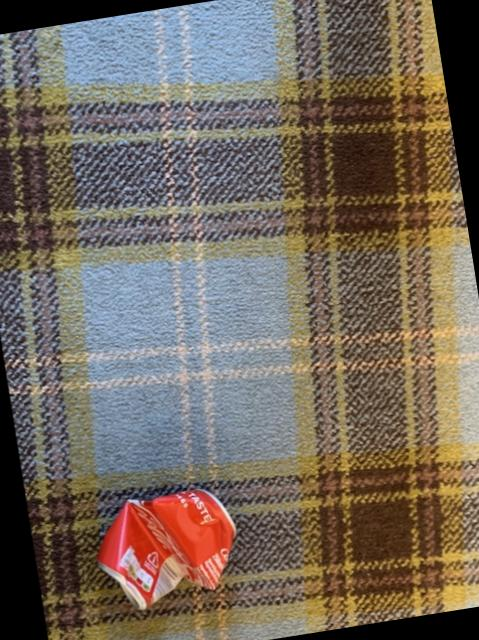metal: (97, 489, 234, 609)
